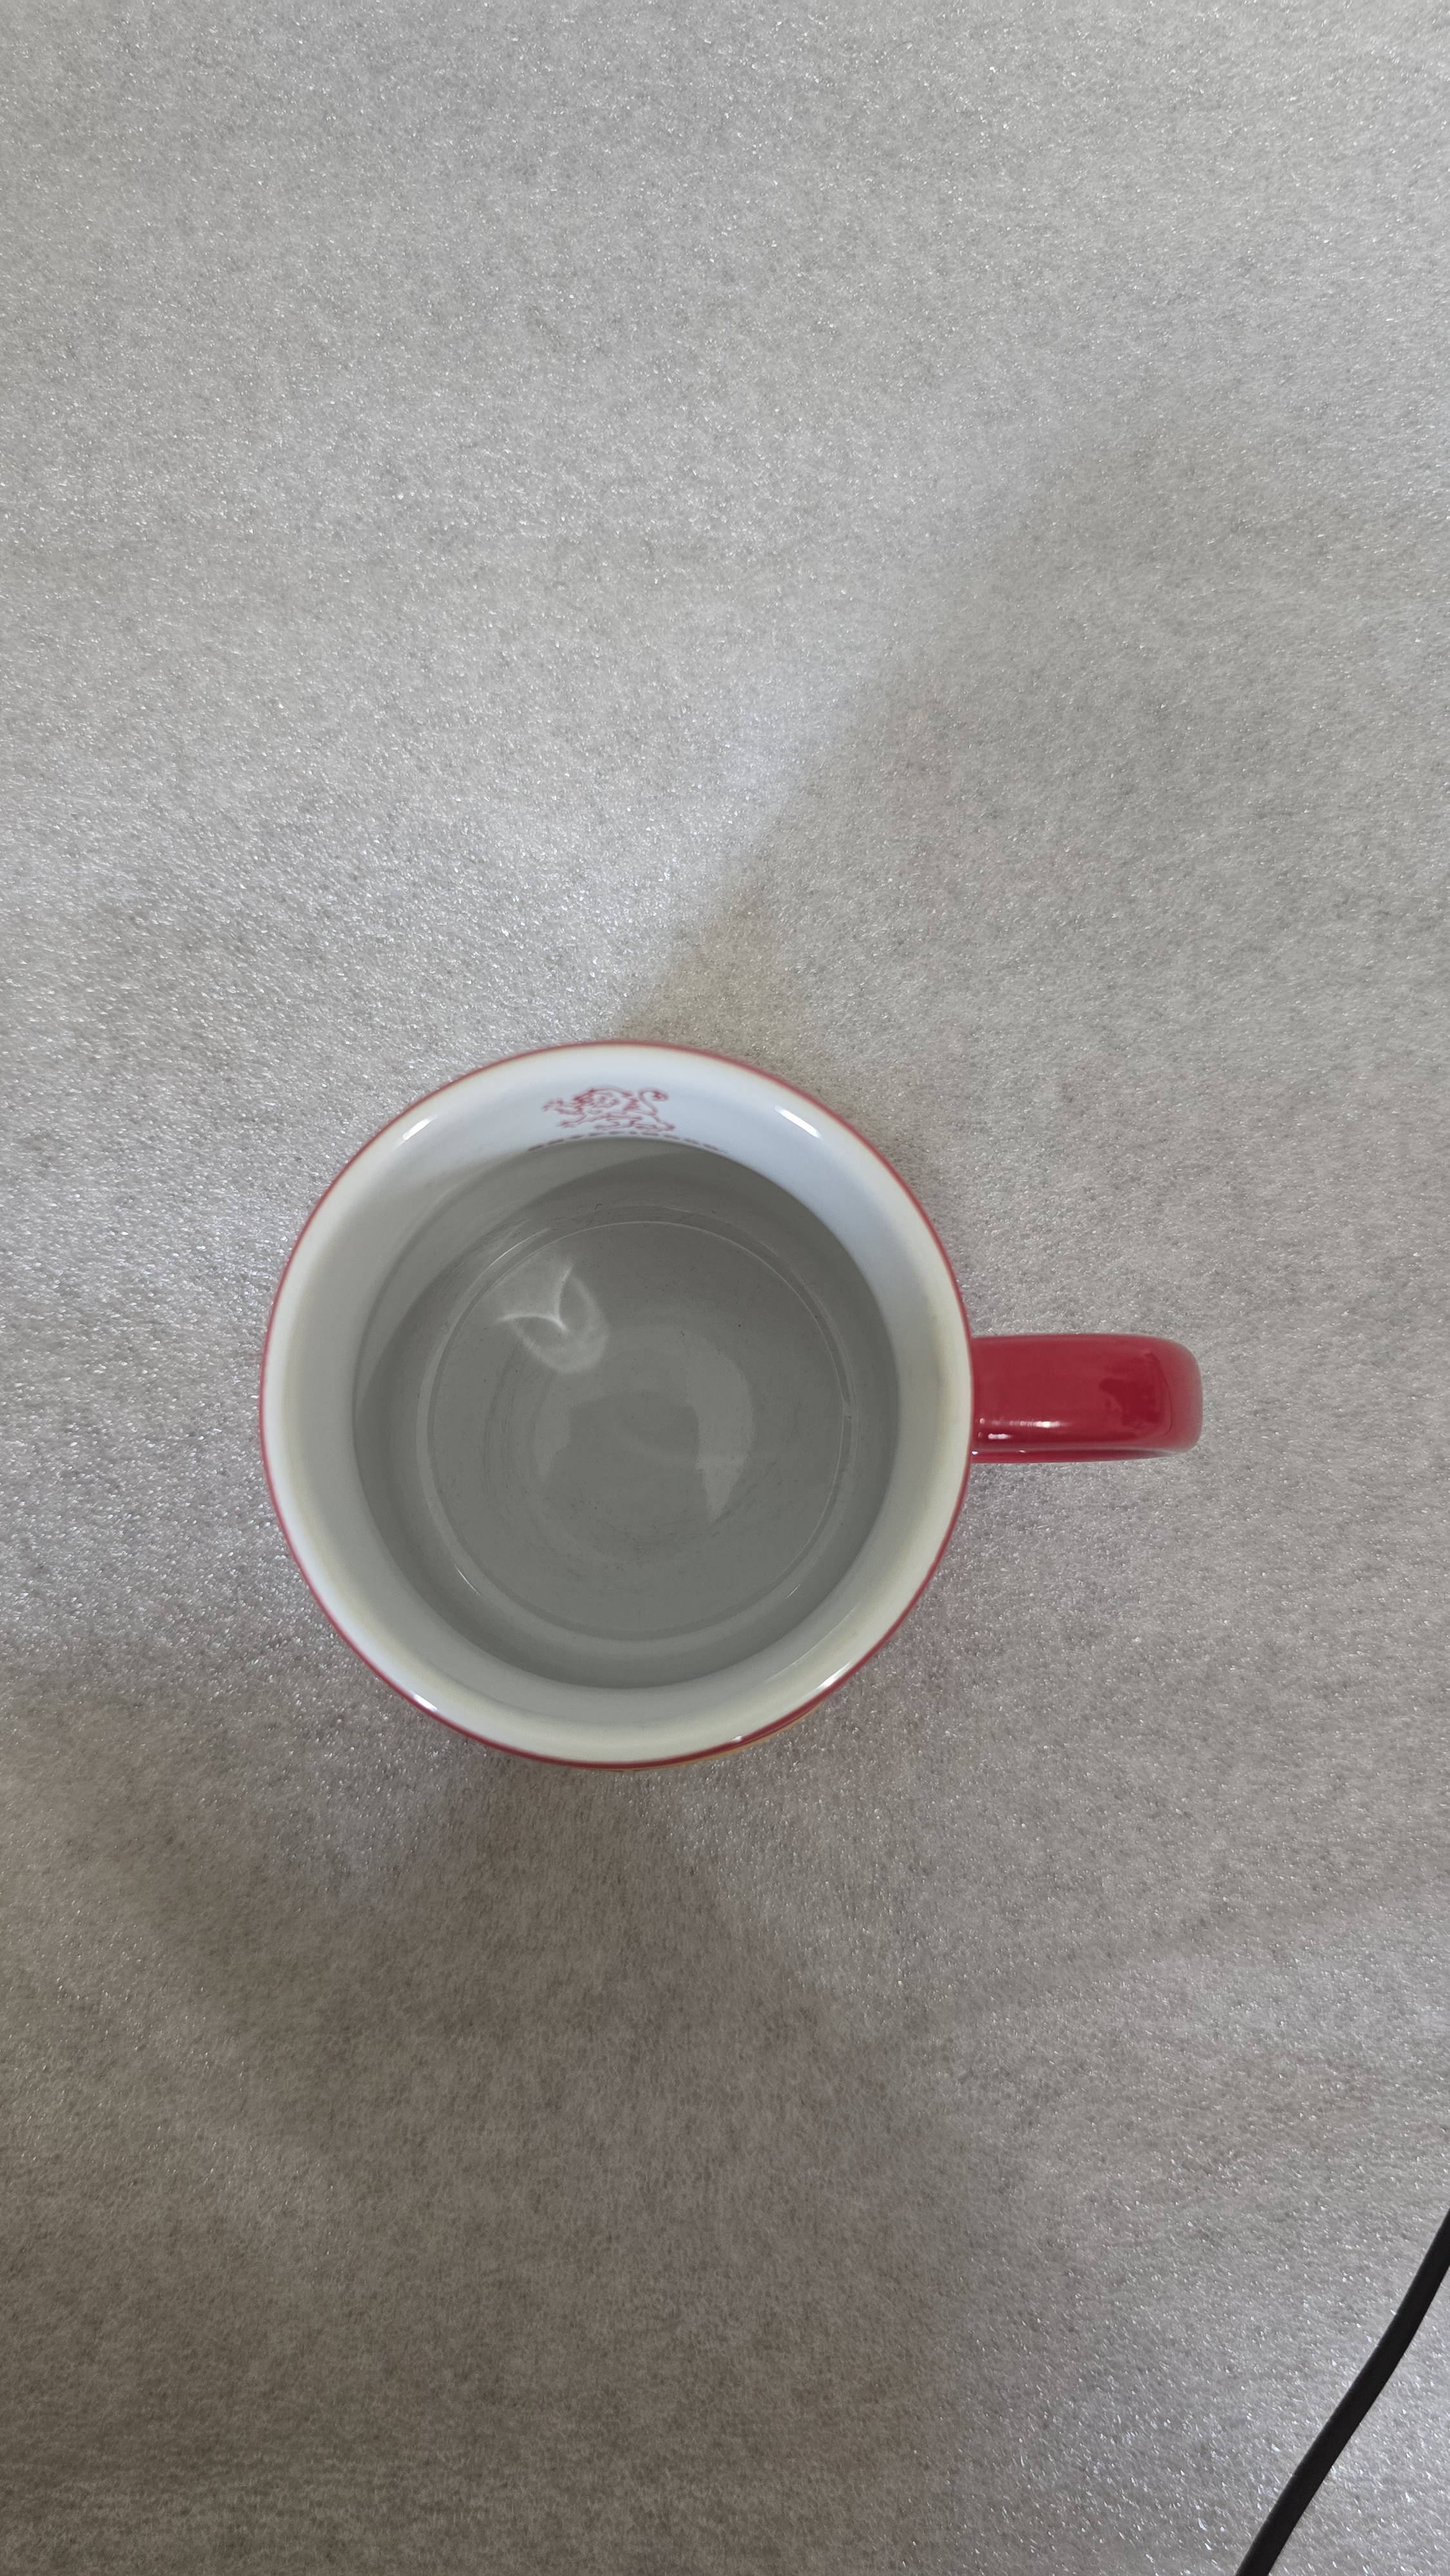mug: (240, 1010, 1241, 1806)
